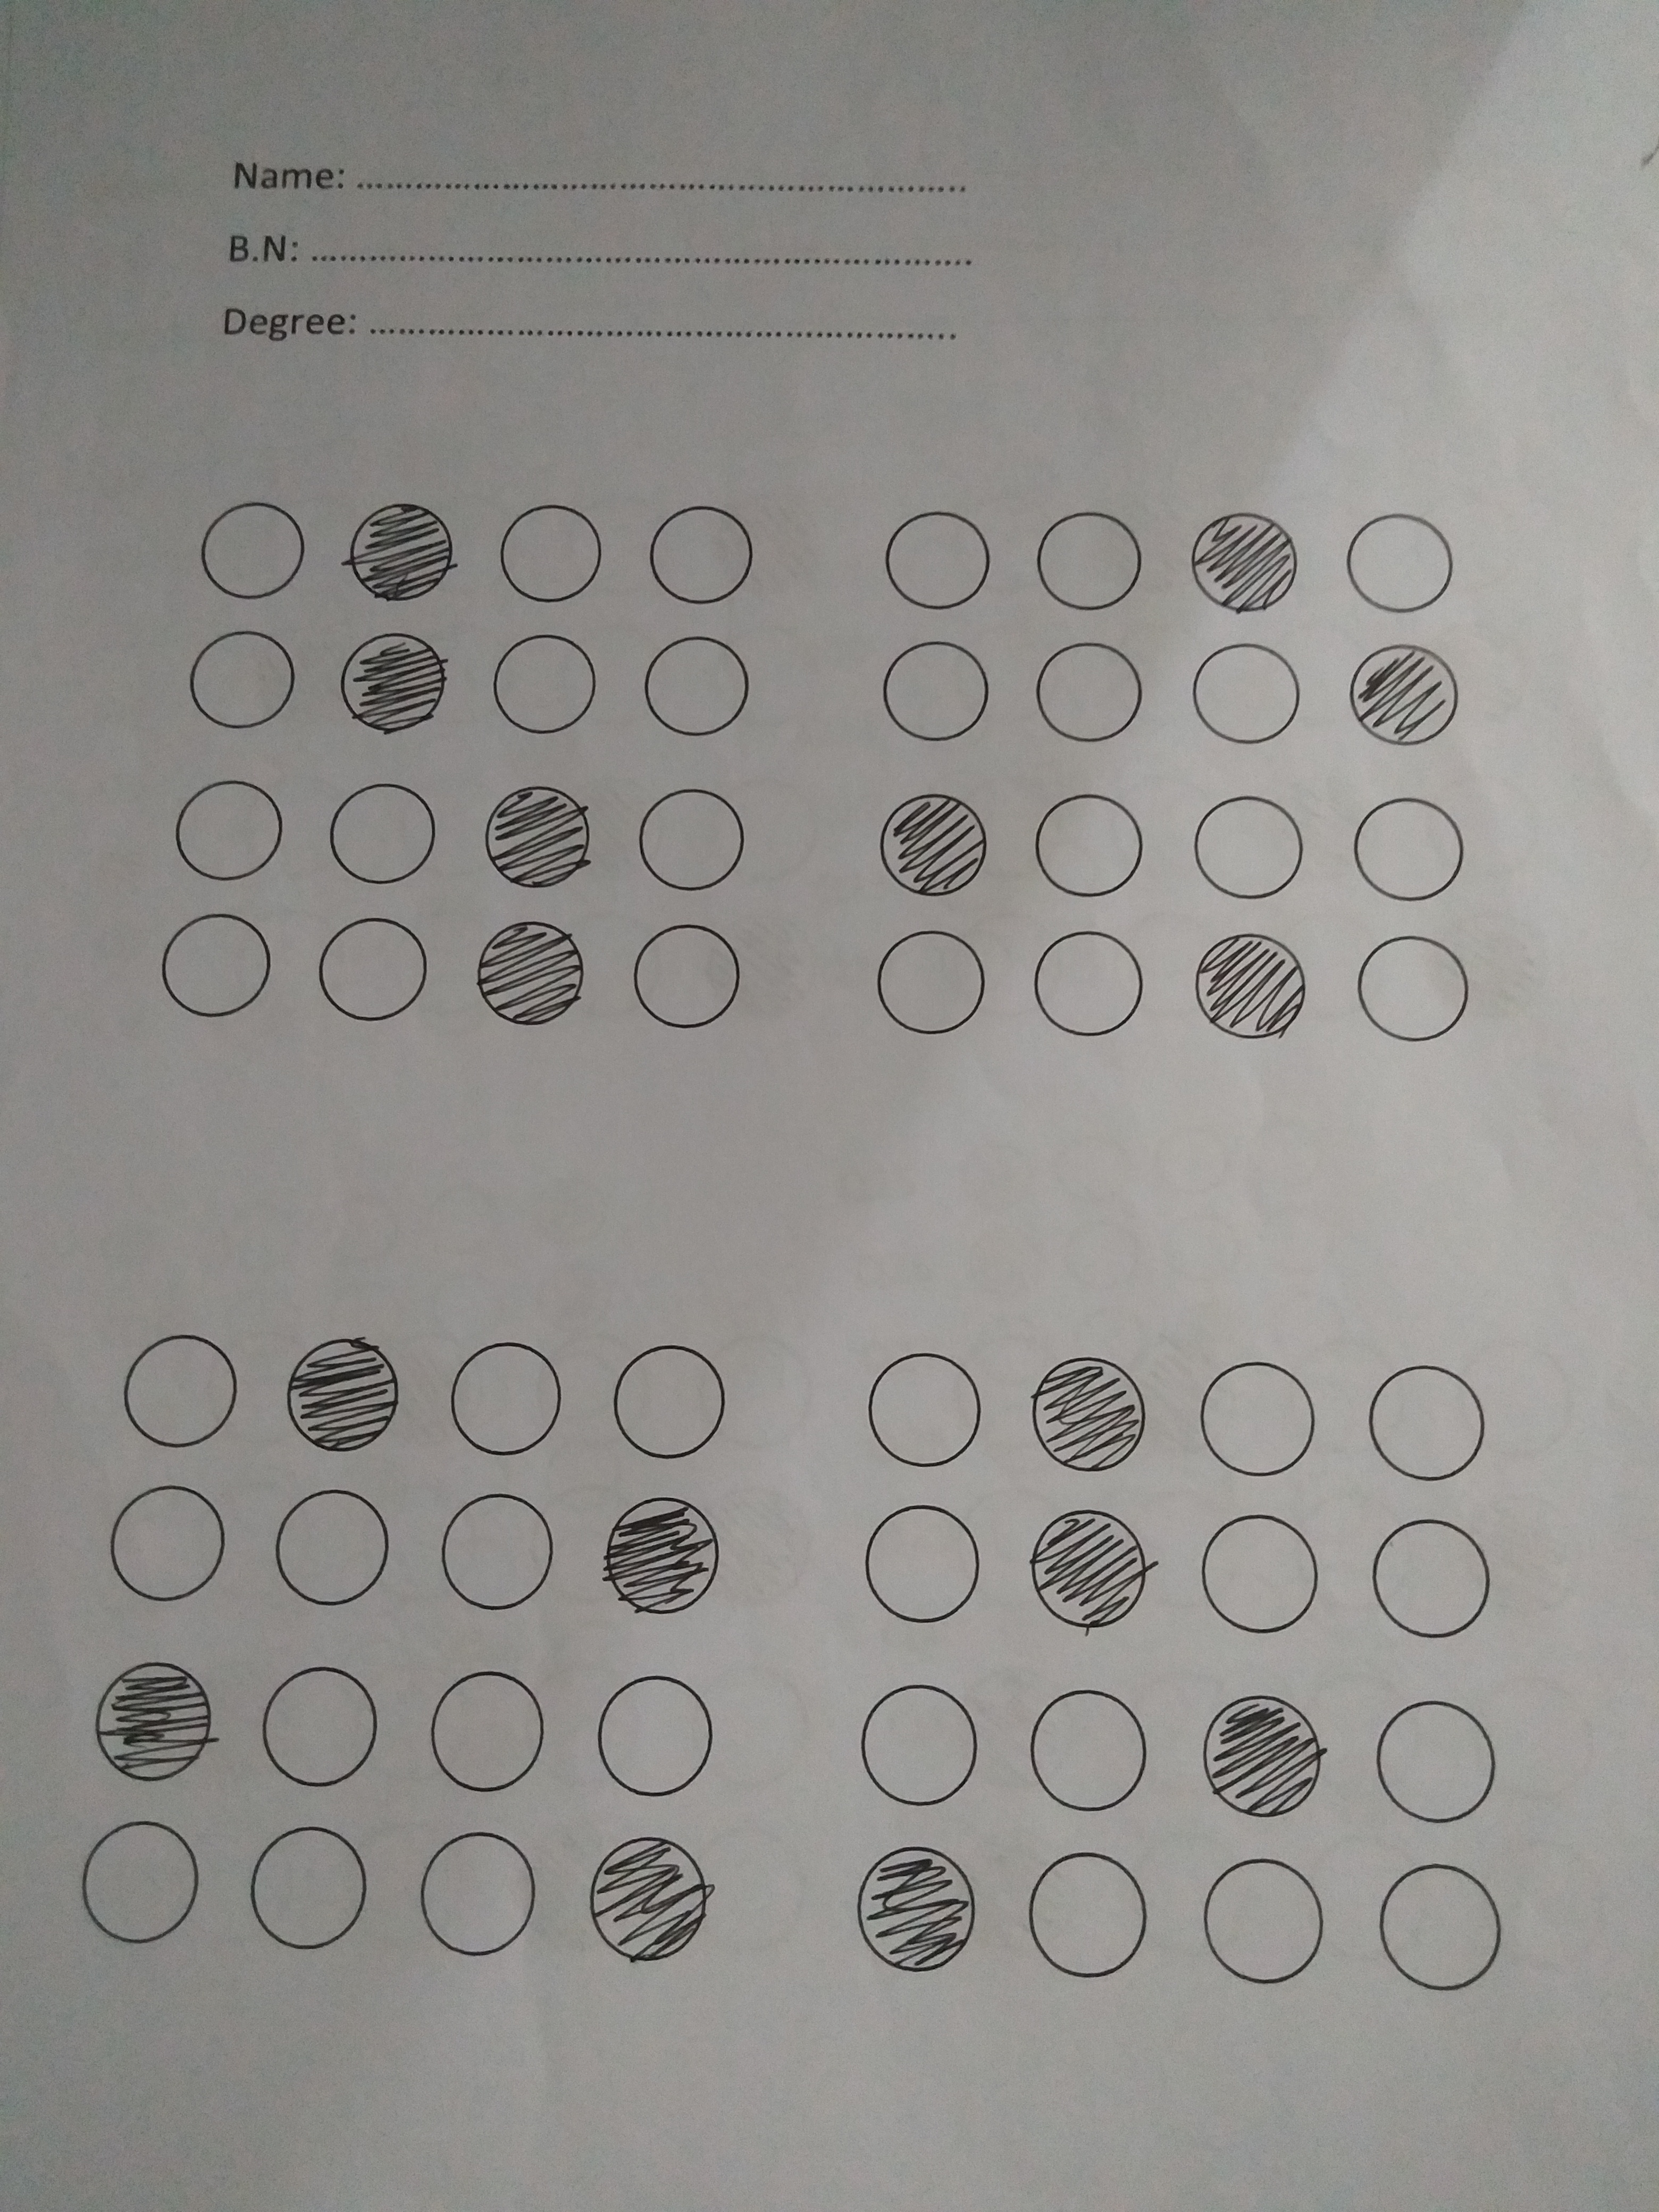not-c: (1371, 1696, 1500, 1824), (857, 1681, 988, 1806), (1361, 1357, 1490, 1482), (1366, 1517, 1495, 1642), (1199, 1512, 1328, 1637), (863, 1500, 992, 1625), (437, 1491, 566, 1616), (270, 1489, 399, 1615), (108, 1482, 237, 1608), (260, 1662, 389, 1787), (429, 1667, 558, 1792), (592, 1676, 721, 1801), (416, 1829, 545, 1954), (246, 1824, 375, 1949), (75, 1820, 204, 1946), (1025, 1688, 1154, 1813), (1375, 1862, 1504, 1987), (1195, 1855, 1324, 1980), (1026, 1851, 1155, 1977), (636, 496, 760, 611), (319, 779, 443, 894), (314, 914, 437, 1029), (634, 784, 758, 899), (1030, 507, 1154, 622), (1349, 932, 1473, 1047), (120, 1334, 244, 1449), (186, 629, 312, 742), (1342, 503, 1467, 617), (870, 637, 995, 751), (190, 502, 314, 615), (486, 502, 610, 615), (629, 632, 753, 745), (486, 632, 610, 745), (169, 770, 293, 883), (155, 909, 279, 1022), (627, 920, 751, 1033), (880, 507, 1004, 620), (1187, 636, 1310, 749), (1021, 639, 1145, 752), (1021, 786, 1145, 899), (1188, 792, 1312, 906), (1352, 792, 1476, 906), (1021, 928, 1145, 1042), (868, 927, 992, 1040), (446, 1343, 570, 1456), (608, 1343, 732, 1456), (863, 1353, 986, 1467), (1197, 1362, 1321, 1475)
taken-c: (852, 1843, 985, 1977), (1194, 1689, 1328, 1822), (1023, 1501, 1157, 1634), (584, 1832, 713, 1963), (1019, 1350, 1148, 1475), (91, 1660, 220, 1785), (599, 1493, 728, 1618), (279, 1332, 408, 1458), (336, 622, 462, 740), (338, 496, 462, 611), (472, 914, 591, 1033), (1190, 927, 1309, 1045), (477, 777, 598, 894), (1185, 503, 1305, 618), (871, 787, 993, 899), (1342, 641, 1466, 751)
